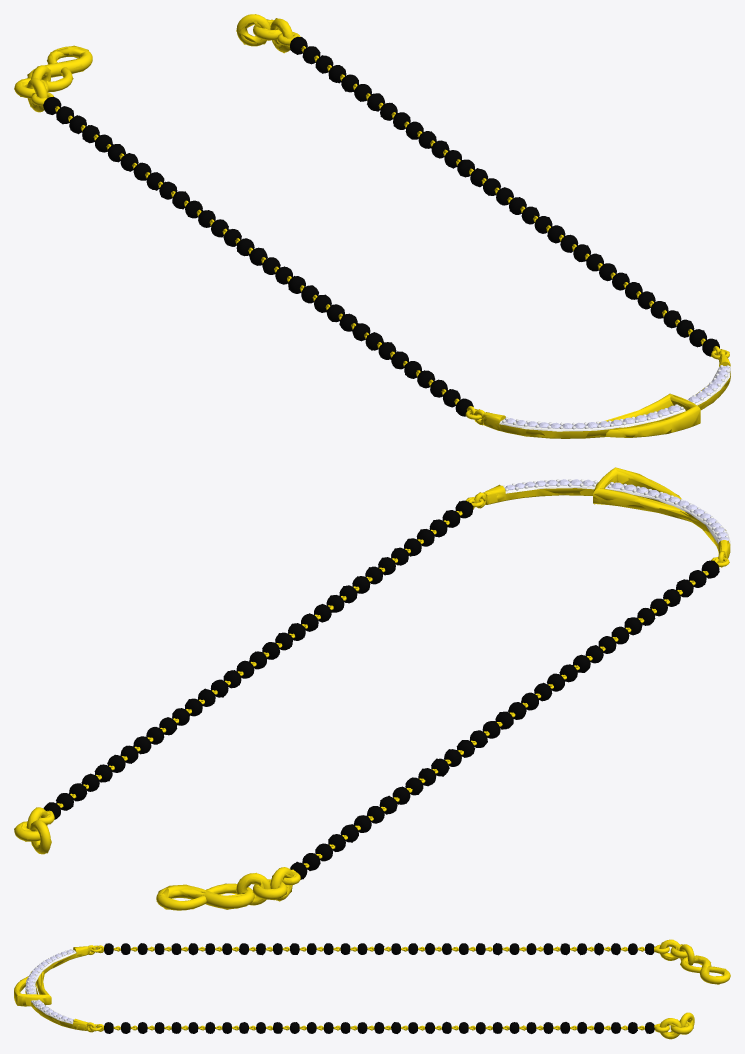
File: DPN-D000539534_hub.glb
3 renders of one model, top to bottom at view 1: azimuth 30°, elevation 25°; view 2: azimuth 150°, elevation 25°; view 3: azimuth 270°, elevation 25°, orthographic. The views are drawn at different scales.
Visible parts, largest first — view 1: highPolyMesh, lowPolyMesh; view 2: highPolyMesh, lowPolyMesh; view 3: highPolyMesh, lowPolyMesh.
Boxes of the visible parts, x1,y1,x2,y2 form: highPolyMesh: [14, 14, 730, 438]; lowPolyMesh: [14, 14, 730, 438]; highPolyMesh: [14, 468, 730, 910]; lowPolyMesh: [14, 467, 730, 909]; highPolyMesh: [14, 939, 730, 1039]; lowPolyMesh: [14, 939, 730, 1039].
Size of the model in its own units: 0.0363 by 0.00417 by 0.128.
